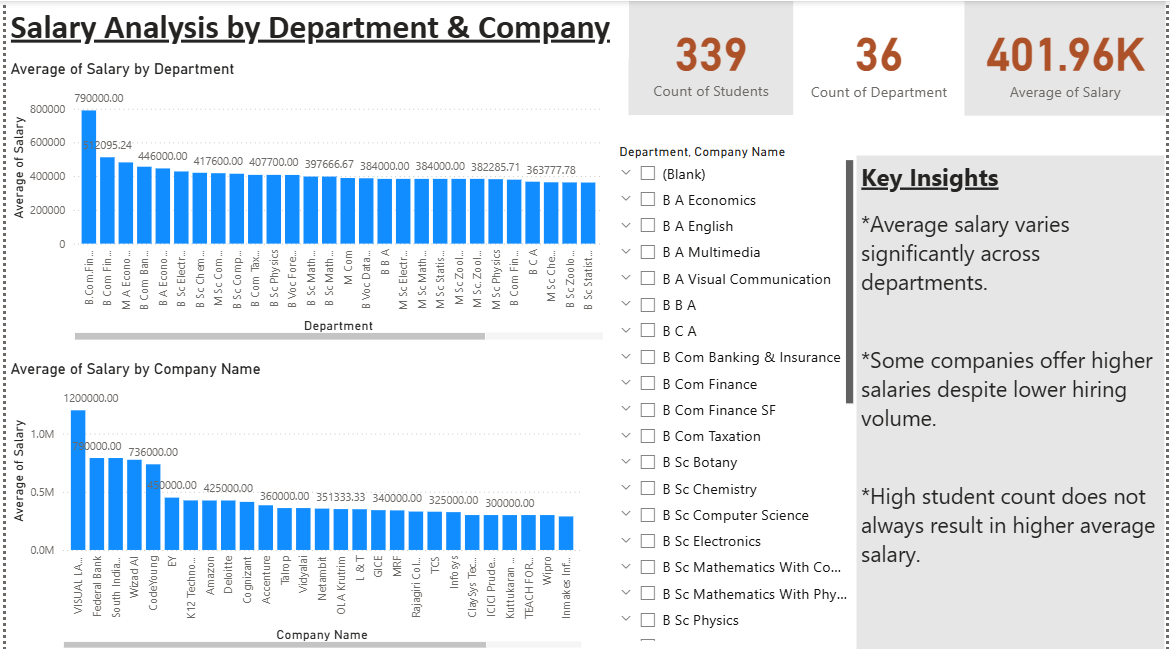

The page's visual inventory and layout, read from the dashboard file:
{"tool":"powerbi","page":{"name":"Salary WIse","canvas":[1280,720],"ordinal":0},"visuals":[{"type":"columnChart","fields":{"Category":["Table 1 (Sheet1).Department"],"Y":["Avg(Table 1 (Sheet1).LPA)"]},"box":[0,64,664,314],"z":0},{"type":"clusteredColumnChart","fields":{"Category":["Table 1 (Sheet1).Company Name"],"Y":["Avg(Table 1 (Sheet1).Salary)"]},"box":[0,396,640,324],"z":1000},{"type":"card","fields":{"Values":["CountNonNull(Table 1 (Sheet1).Students)"]},"box":[688,0,182,126],"z":2000},{"type":"slicer","fields":{"Values":["Table 1 (Sheet1).Department","Table 1 (Sheet1).Company Name"]},"box":[664,152,276,558],"z":3000},{"type":"card","fields":{"Values":["Count(Table 1 (Sheet1).Department)"]},"box":[870,0,188.3,126.7],"z":4000},{"type":"card","fields":{"Values":["Avg(Table 1 (Sheet1).Salary)"]},"box":[1058.3,0,221.7,126.7],"z":5000},{"type":"textbox","box":[0,0,688,64],"z":6000},{"type":"textbox","box":[940,170,340,550],"z":7000}]}

Visuals, with their boxes in screenshot pixels (x1, y1, x2, y2), scaled from the page's 1280x720 canvas onto the 1170x649 screenshot:
columnChart - Table 1 (Sheet1).Department x Avg(Table 1 (Sheet1).LPA): [left=0, top=58, right=607, bottom=341]
clusteredColumnChart - Table 1 (Sheet1).Company Name x Avg(Table 1 (Sheet1).Salary): [left=0, top=357, right=585, bottom=648]
card - CountNonNull(Table 1 (Sheet1).Students): [left=629, top=0, right=795, bottom=114]
slicer - Table 1 (Sheet1).Department x Table 1 (Sheet1).Company Name: [left=607, top=137, right=859, bottom=640]
card - Count(Table 1 (Sheet1).Department): [left=795, top=0, right=967, bottom=114]
card - Avg(Table 1 (Sheet1).Salary): [left=967, top=0, right=1169, bottom=114]
textbox: [left=0, top=0, right=629, bottom=58]
textbox: [left=859, top=153, right=1169, bottom=648]
